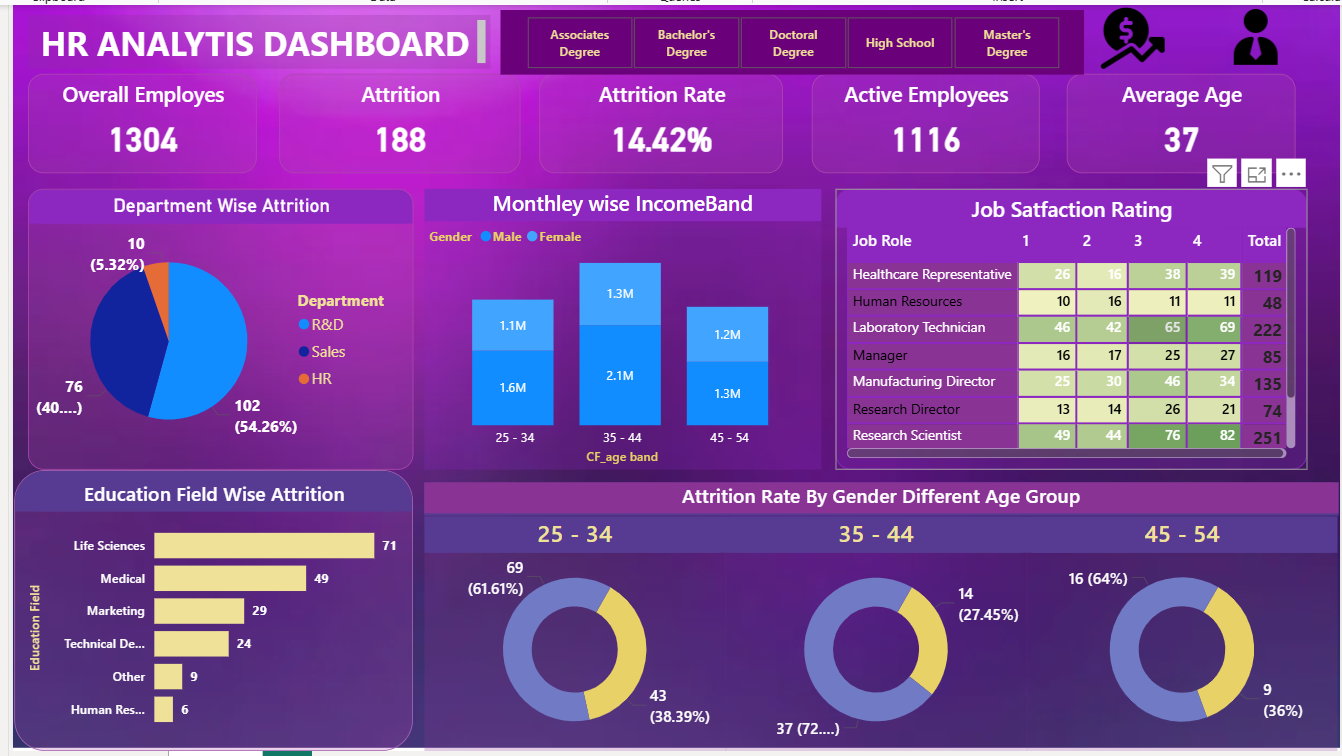

This screenshot's page, from the dashboard's own definition file:
{"tool":"powerbi","page":{"name":"Page 1","canvas":[1280,720],"ordinal":0},"visuals":[{"type":"card","title":"Overall Employes","fields":{"Values":["Sum(HR data.Employee Count)"]},"box":[14.5,65.8,221,96],"z":0},{"type":"card","title":"Attrition","fields":{"Values":["Sum(HR data.Attrition Column)"]},"box":[256.5,65.8,232.8,96],"z":1000},{"type":"card","title":"Attrition Rate","fields":{"Values":["Dax Measure.Attrition Rate"]},"box":[507.8,65.8,235.5,96],"z":2000},{"type":"card","title":"Active Employees","fields":{"Values":["Dax Measure.Active Employees"]},"box":[770.9,65.8,219.7,96],"z":3000},{"type":"card","title":"Average Age","fields":{"Values":["Dax Measure.Average Age"]},"box":[1016.9,65.8,221,96],"z":4000},{"type":"pieChart","title":"Department Wise Attrition","fields":{"Category":["HR data.Department"],"Y":["Sum(HR data.Attrition Column)"]},"box":[14.5,177.6,372.3,271],"z":5000},{"type":"pivotTable","title":"Job Satfaction Rating ","fields":{"Columns":["HR data.Job Satisfaction"],"Rows":["HR data.Job Role"],"Values":["Sum(HR data.Employee Count)"]},"box":[793.3,177.6,455.2,271],"z":7000},{"type":"barChart","title":" Education Field Wise Attrition","fields":{"Category":["HR data.Education Field"],"Y":["Sum(HR data.Attrition Count)"]},"box":[1.6,449.2,384.6,271.5],"z":8000},{"type":"donutChart","title":"25 - 34","fields":{"Category":["HR data.Gender"],"Series":["HR data.CF_age band"],"Y":["Sum(HR data.Attrition Count)"]},"box":[397.3,493.4,290.9,227.2],"z":9000},{"type":"textbox","title":"Attrition Rate By Gender Different Age Group  ","box":[397.5,460.5,882.2,32.3],"z":10000},{"type":"donutChart","title":"35 - 44","fields":{"Category":["HR data.Gender"],"Series":["HR data.CF_age band"],"Y":["Sum(HR data.Attrition Count)"]},"box":[688.2,493.4,290.9,227.2],"z":11000},{"type":"donutChart","title":"45 - 54","fields":{"Category":["HR data.Gender"],"Series":["HR data.CF_age band"],"Y":["Sum(HR data.Attrition Count)"]},"box":[979,493.4,299.9,227.2],"z":12000},{"type":"columnChart","title":"Monthley wise IncomeBand","fields":{"Category":["HR data.CF_age band"],"Series":["HR data.Gender"],"Y":["Sum(HR data.Monthly Income)"]},"box":[397.5,177.7,382.9,271.5],"z":13000},{"type":"image","box":[1160.1,0,77.6,61.4],"z":14000},{"type":"image","box":[1034.1,0,93.7,61.4],"z":15000},{"type":"textbox","box":[14.5,9.7,446.4,51.9],"z":16000},{"type":"slicer","fields":{"Values":["HR data.Education"]},"box":[470.5,4.8,563.4,62.7],"z":16001}]}

Visuals, with their boxes in screenshot pixels (x1, y1, x2, y2), scaled from the page's 1280x720 canvas onto the 1342x756 screenshot:
"Overall Employes" card: box=[15, 69, 247, 170]
"Attrition" card: box=[269, 69, 513, 170]
"Attrition Rate" card: box=[532, 69, 779, 170]
"Active Employees" card: box=[808, 69, 1039, 170]
"Average Age" card: box=[1066, 69, 1298, 170]
"Department Wise Attrition" pieChart: box=[15, 186, 406, 471]
"Job Satfaction Rating " pivotTable: box=[832, 186, 1309, 471]
" Education Field Wise Attrition" barChart: box=[2, 472, 405, 755]
"25 - 34" donutChart: box=[417, 518, 722, 755]
"Attrition Rate By Gender Different Age Group  " textbox: box=[417, 484, 1341, 517]
"35 - 44" donutChart: box=[722, 518, 1027, 755]
"45 - 54" donutChart: box=[1026, 518, 1341, 755]
"Monthley wise IncomeBand" columnChart: box=[417, 187, 818, 472]
image: box=[1216, 0, 1298, 64]
image: box=[1084, 0, 1182, 64]
textbox: box=[15, 10, 483, 65]
slicer - HR data.Education: box=[493, 5, 1084, 71]
